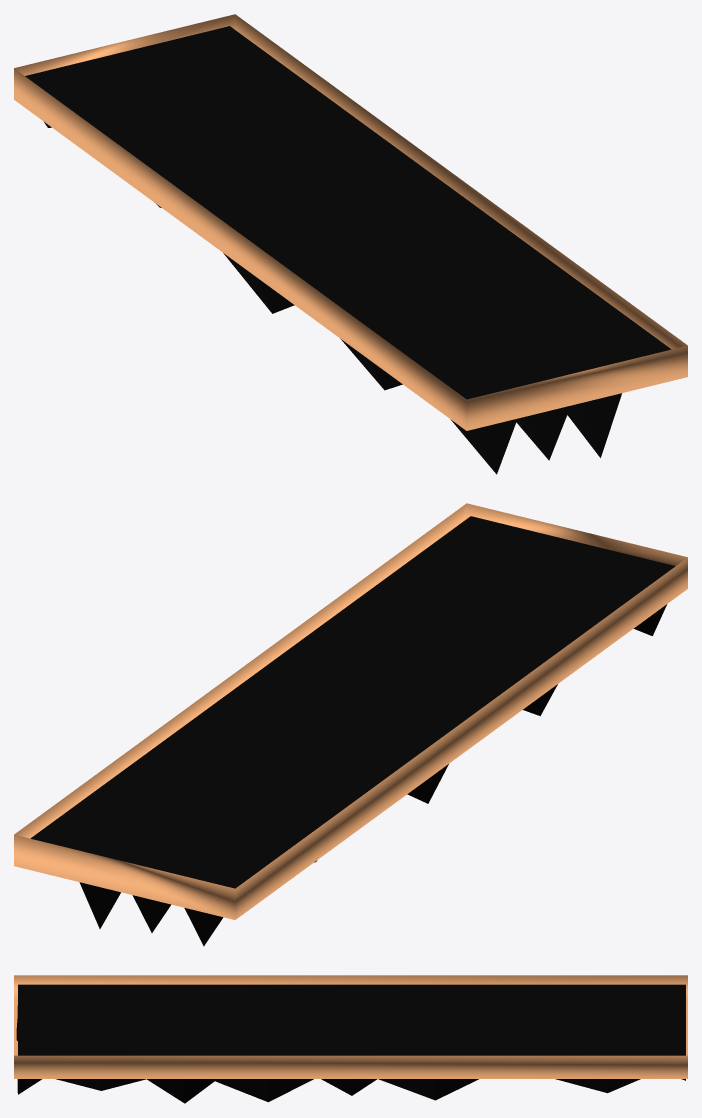
File: trap_down_1.fbx
3 renders of one model, top to bottom at view 1: azimuth 30°, elevation 25°; view 2: azimuth 150°, elevation 25°; view 3: azimuth 270°, elevation 25°, orthographic. The views are drawn at different scales.
Visible parts, largest first — view 1: trap.down.001; view 2: trap.down.001; view 3: trap.down.001.
Part boxes in pixels (x1,y1,x2,y2): trap.down.001: [14, 14, 687, 474]; trap.down.001: [14, 503, 687, 946]; trap.down.001: [14, 975, 687, 1103].
Size of the model in its own units: 479 by 219 by 1698.
